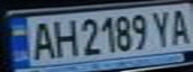1: (97, 14, 118, 54)
2: (78, 15, 100, 56)
8: (115, 12, 133, 52)
9: (130, 11, 154, 52)
A: (24, 18, 57, 61), (166, 6, 193, 45)
H: (48, 16, 78, 58)
Y: (148, 7, 175, 47)
